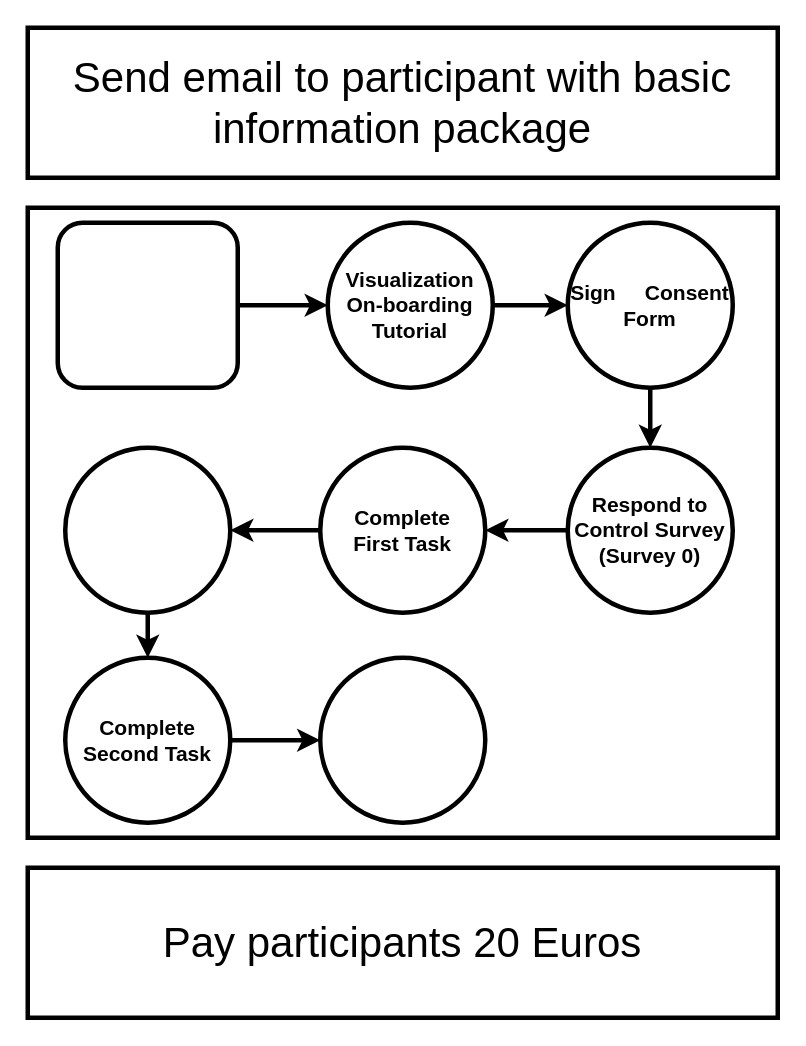
The diagram is 806 pixels wide and 1046 high, and some of its shapes have lost their labels. Each missing label, with the centre of its shape:
"Explain study purpose and steps. Provide cheat sheet print out." goes at point (147, 304).
"Respond to Survey 1" goes at point (147, 529).
"Respond to Survey 2" goes at point (402, 739).
